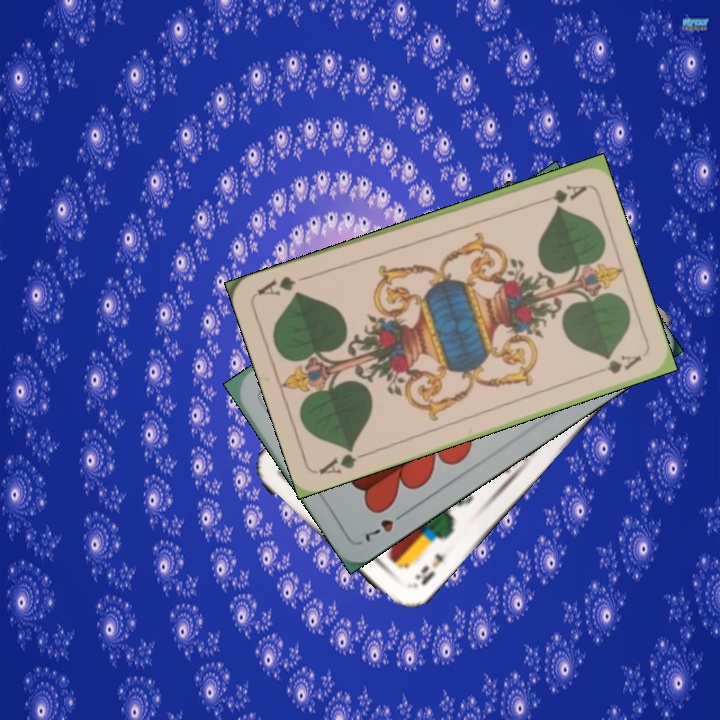EK: (411, 549, 447, 588)
GA: (315, 442, 372, 477), (530, 180, 588, 207)
H7: (357, 507, 411, 545)
